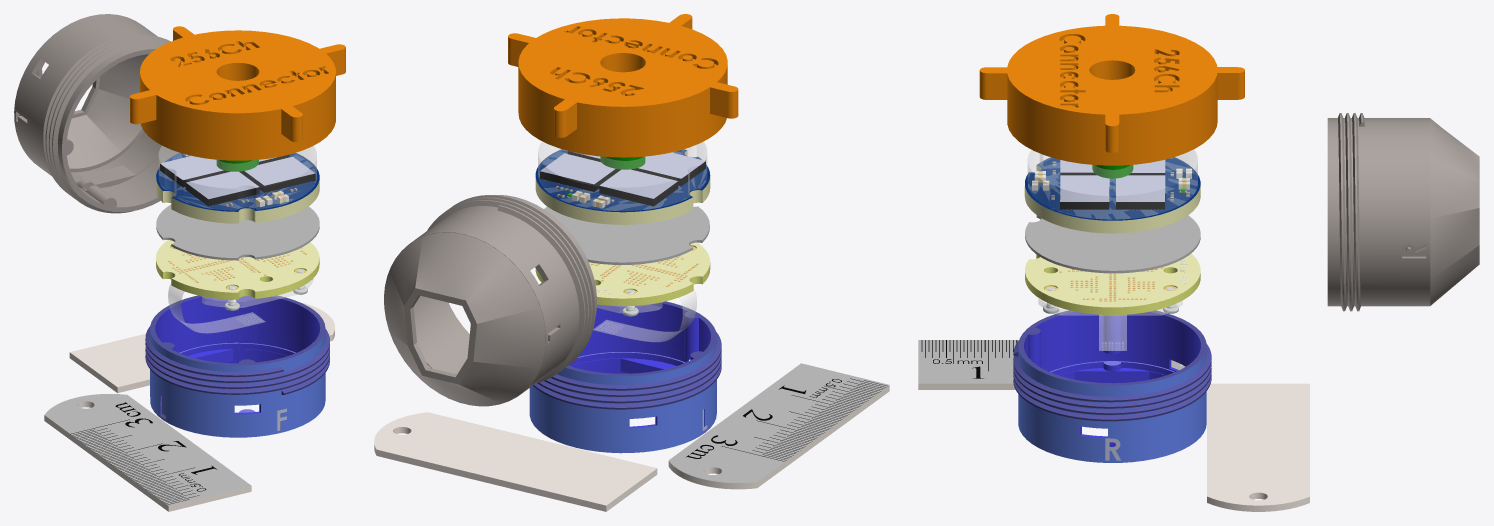
The picture shows the model from 3 angles, left to right: view 1: azimuth 30°, elevation 25°; view 2: azimuth 150°, elevation 25°; view 3: azimuth 270°, elevation 25°; orthographic projection. The views are drawn at different scales.
Visible parts, largest first — view 1: Part, Part 28, Part 35, Part 29, Part 30, Part 7, Part 18, Part 32, Part 22, Part 36, Part 8, RHD2164_bga new-1 - Part 4 (+7 smaller); view 2: Part 28, Part, Part 36, Part 35, Part 29, Part 7, Part 30, Part 18, Part 32, Part 8, RHD2164_bga new-1 - Part 4, Part 22 (+6 smaller); view 3: Part, Part 28, Part 36, Part 29, Part 30, Part 7, Part 18, Part 32, Part 22, Part 35, RHD2164_bga new-1 - Part 4, Part 4 (+6 smaller).
Boxes of the visible parts, x1=… form: Part: x1=130, y1=26, x2=345, y2=160; Part 28: x1=14, y1=14, x2=179, y2=213; Part 35: x1=45, y1=394, x2=251, y2=505; Part 29: x1=150, y1=328, x2=325, y2=437; Part 30: x1=155, y1=296, x2=320, y2=431; Part 7: x1=159, y1=146, x2=316, y2=307; Part 18: x1=156, y1=204, x2=319, y2=260; Part 32: x1=145, y1=295, x2=329, y2=393; Part 22: x1=156, y1=240, x2=319, y2=292; Part 36: x1=44, y1=302, x2=334, y2=511; Part 8: x1=70, y1=154, x2=315, y2=504; RHD2164_bga new-1 - Part 4: x1=160, y1=156, x2=315, y2=431; Part 28: x1=384, y1=195, x2=596, y2=406; Part: x1=508, y1=14, x2=738, y2=157; Part 36: x1=374, y1=385, x2=889, y2=511; Part 35: x1=669, y1=363, x2=889, y2=482; Part 29: x1=529, y1=337, x2=716, y2=453; Part 7: x1=538, y1=141, x2=706, y2=312; Part 30: x1=569, y1=302, x2=710, y2=431; Part 18: x1=544, y1=206, x2=709, y2=264; Part 32: x1=534, y1=301, x2=721, y2=407; Part 8: x1=540, y1=151, x2=887, y2=461; RHD2164_bga new-1 - Part 4: x1=540, y1=152, x2=707, y2=431; Part 22: x1=589, y1=243, x2=710, y2=298; Part: x1=979, y1=14, x2=1244, y2=165; Part 28: x1=1327, y1=113, x2=1479, y2=311; Part 36: x1=918, y1=362, x2=1309, y2=511; Part 29: x1=1018, y1=348, x2=1206, y2=462; Part 30: x1=1024, y1=311, x2=1200, y2=458; Part 7: x1=1028, y1=149, x2=1197, y2=315; Part 18: x1=1025, y1=215, x2=1200, y2=273; Part 32: x1=1013, y1=310, x2=1211, y2=419; Part 22: x1=1025, y1=254, x2=1200, y2=307; Part 35: x1=918, y1=340, x2=1185, y2=383; RHD2164_bga new-1 - Part 4: x1=1060, y1=160, x2=1165, y2=460; Part 4: x1=1025, y1=157, x2=1200, y2=220.
Bounding box in the file's own units: 0.0557 × 0.0564 × 0.0798.
